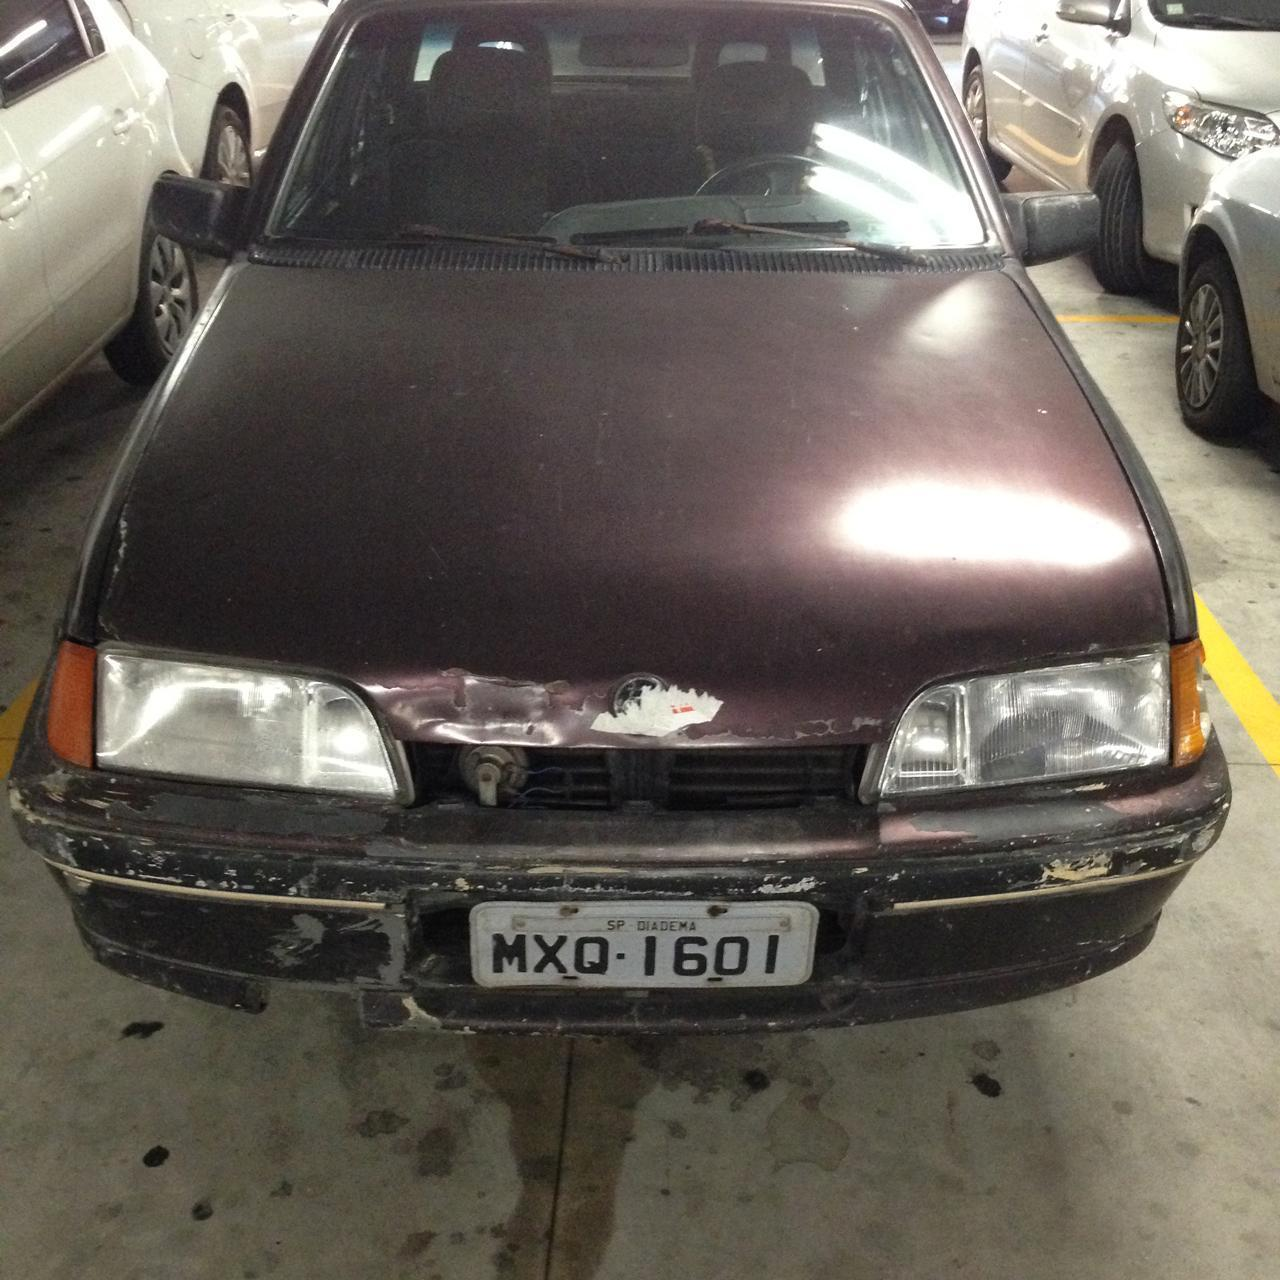placa de veiculo: (453, 892, 834, 1019)
